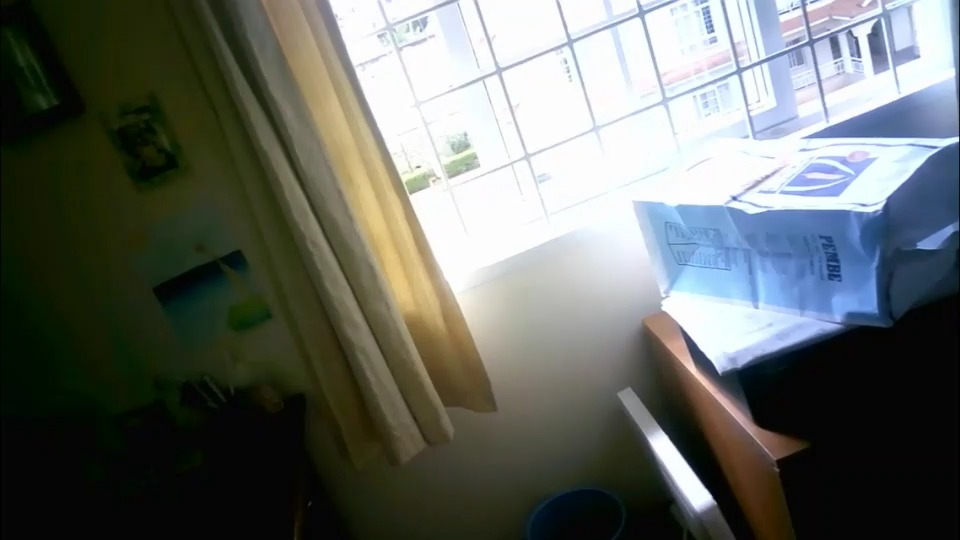wheat_flour_blue_label: (630, 141, 960, 326)
